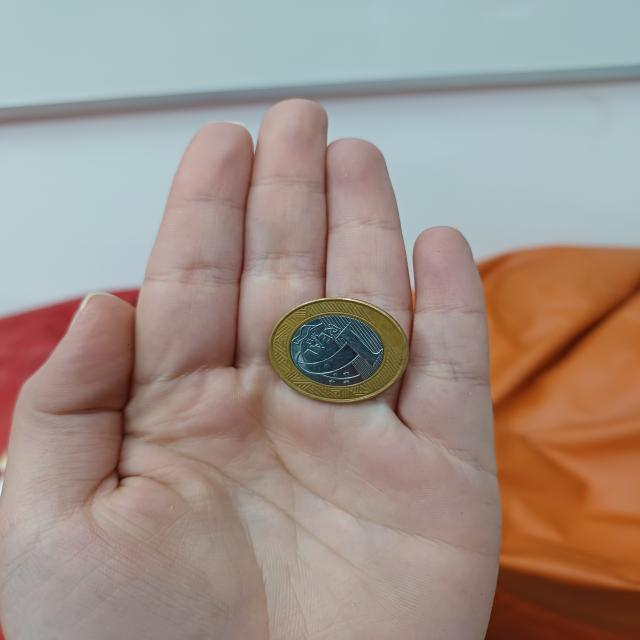1 real: (262, 293, 414, 404)
